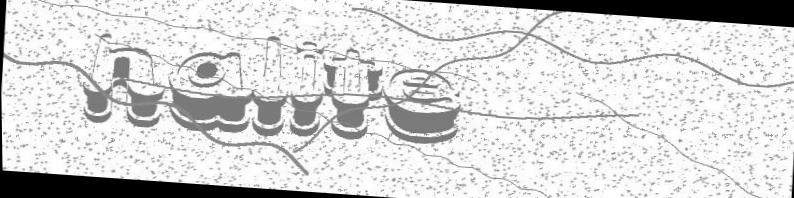a: (164, 39, 255, 137)
e: (379, 64, 468, 149)
h: (73, 27, 173, 134)
i: (286, 35, 330, 141)
l: (249, 30, 294, 136)
t: (319, 45, 387, 142)
